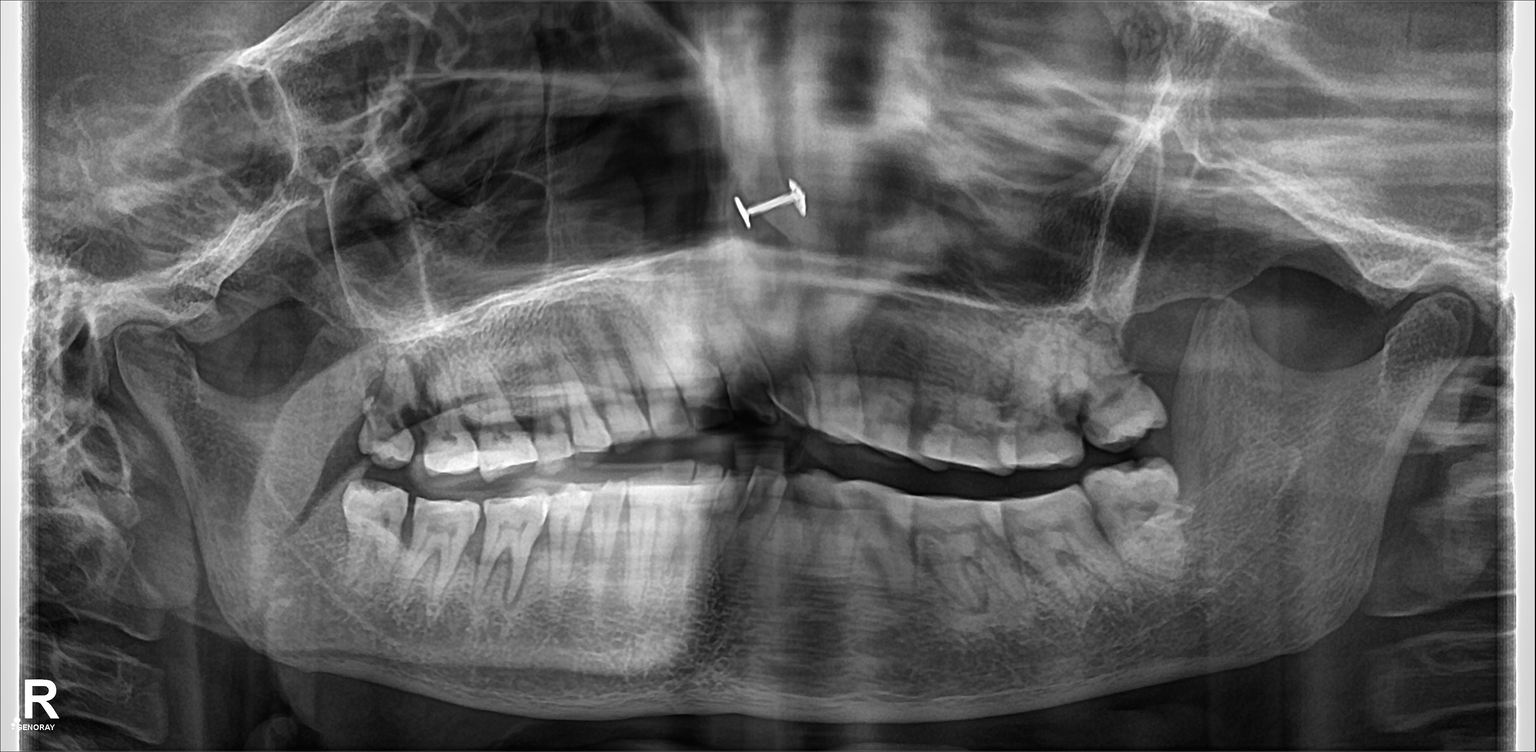Dental Caries: (399, 406, 439, 453)
Impacted Third Molar: (1097, 462, 1190, 570)
Missing Tooth: (309, 467, 347, 584)
